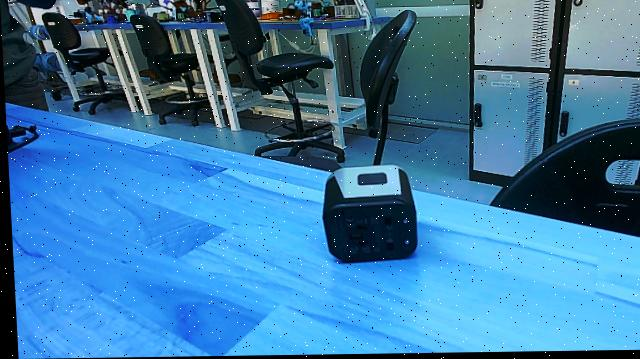adapter: (316, 166, 418, 268)
